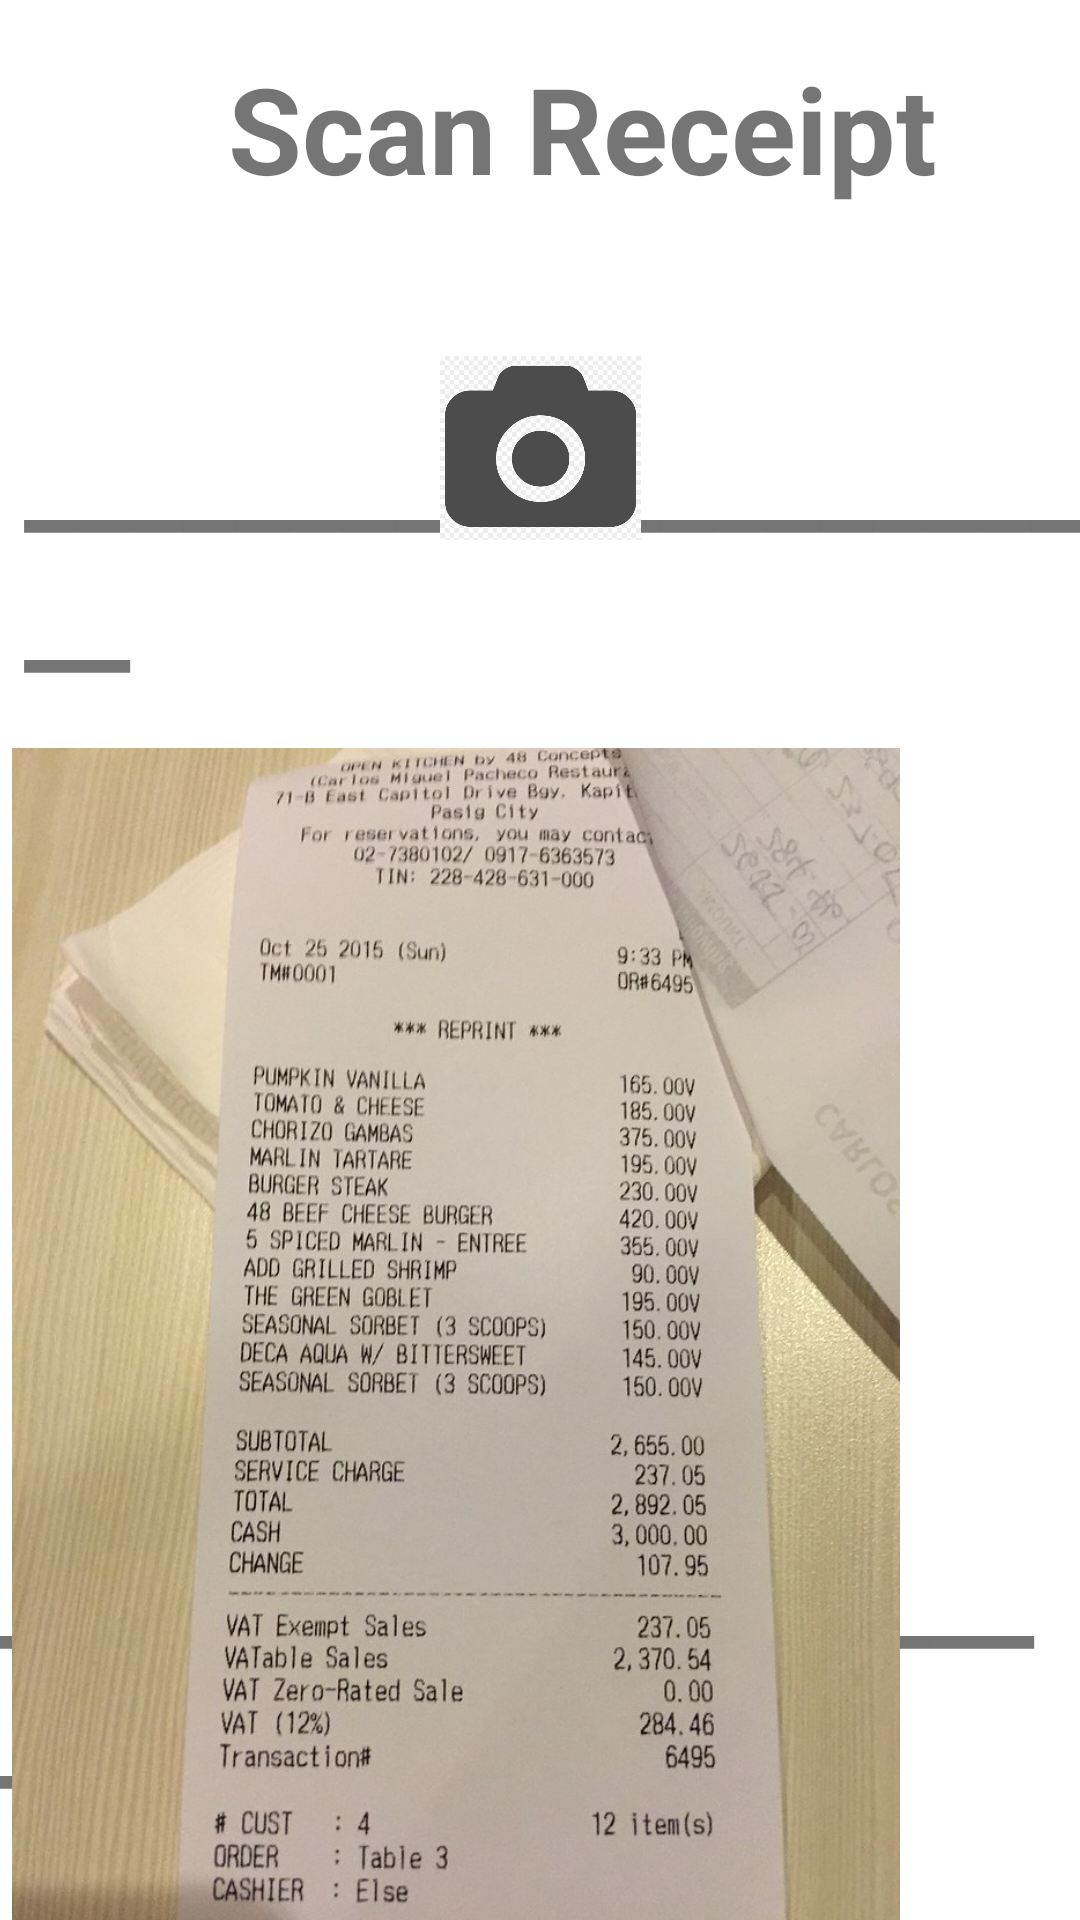

Icon click points for this 1080w x 1920h phone screenshot, format (x=x, y=y):
camera: (x=540, y=446)
